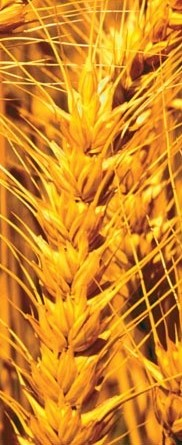Healthy Wheat: (33, 19, 167, 430)
